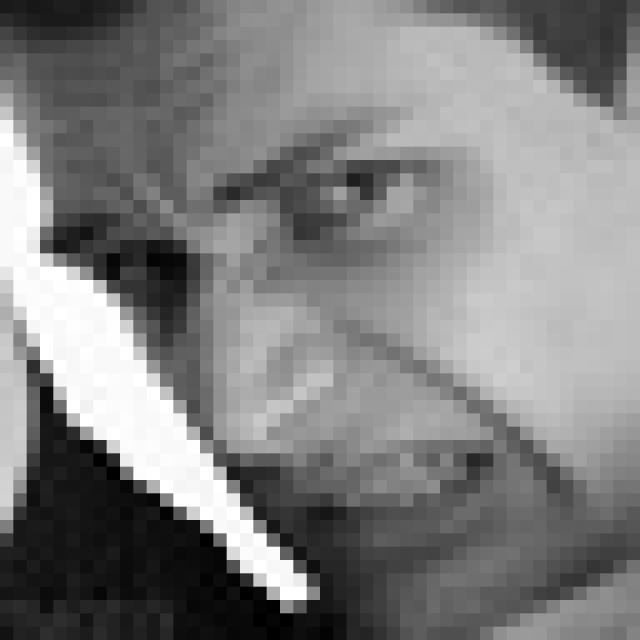disgust: (54, 101, 525, 572)
